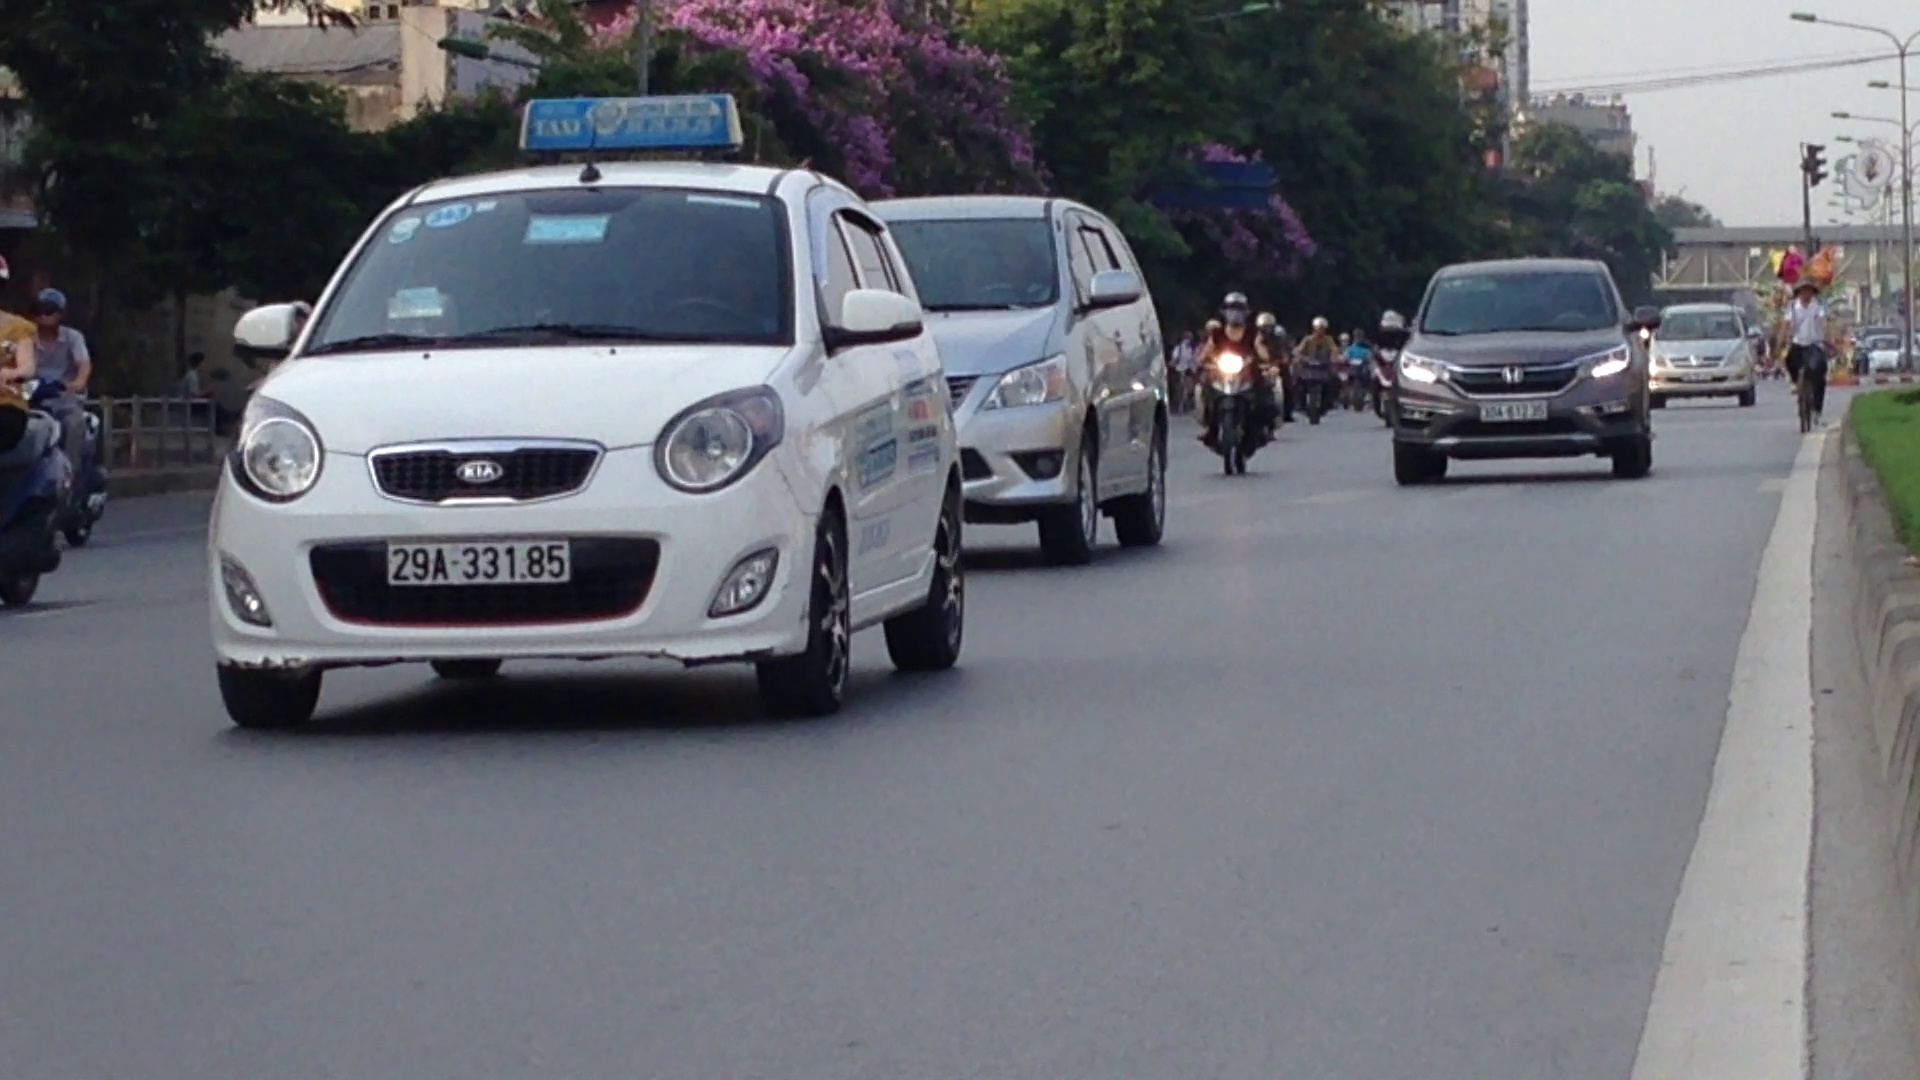vehicle-plate: (382, 535, 577, 588), (1477, 396, 1554, 426)
